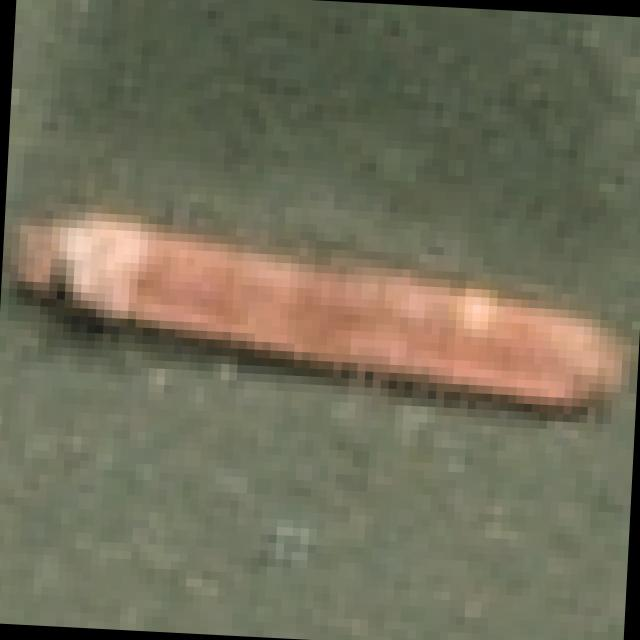ship: (3, 118, 640, 468)
